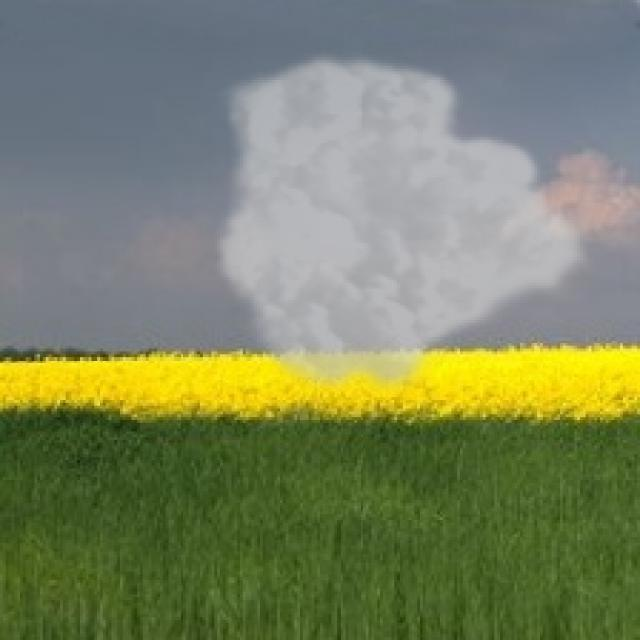Smoke: (212, 48, 594, 400)
